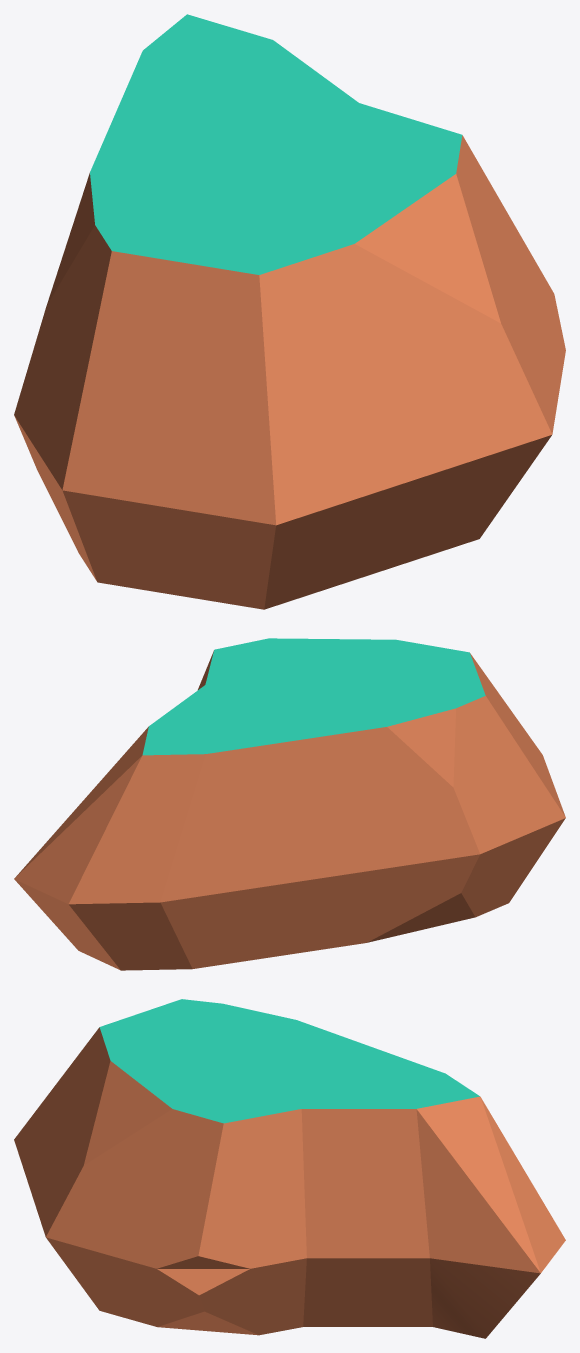
Rendered from rock_largeB.dae.
3 views of the same model, one above another, from view 1: azimuth 30°, elevation 25°; view 2: azimuth 150°, elevation 25°; view 3: azimuth 270°, elevation 25° (orthographic). The views are drawn at different scales.
Parts seen in each view (by area): view 1: rock_largeB; view 2: rock_largeB; view 3: rock_largeB.
Part boxes in pixels (x1=…): rock_largeB: x1=14, y1=14, x2=565, y2=609; rock_largeB: x1=14, y1=638, x2=565, y2=970; rock_largeB: x1=14, y1=999, x2=565, y2=1338.
Size of the model in its own units: 0.7667 by 0.4303 by 1.02.
